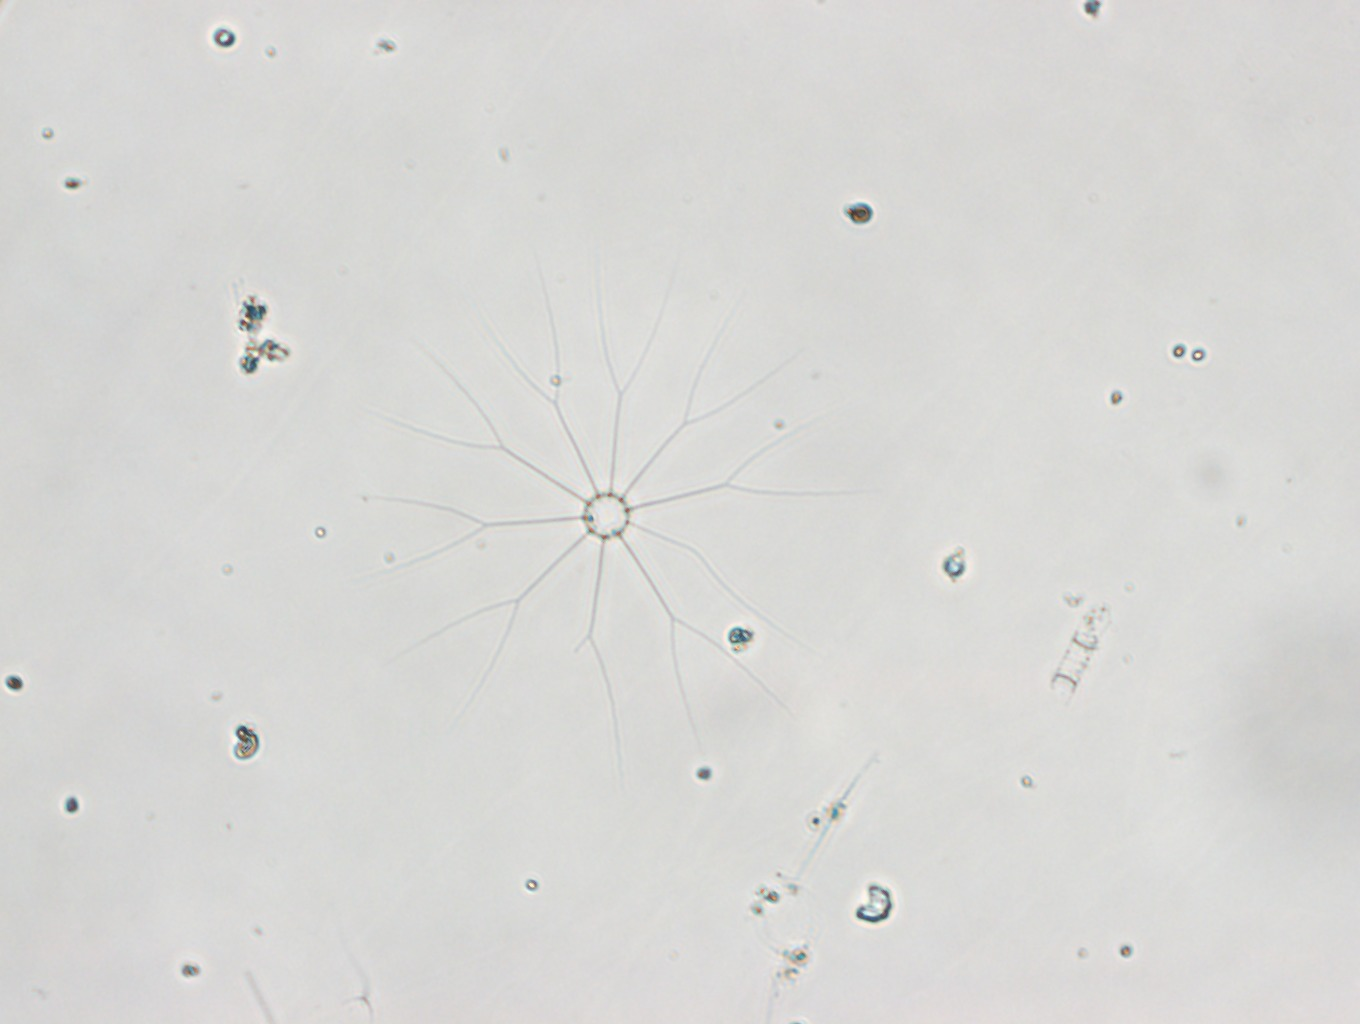bacteriastrum: (359, 248, 881, 780)
